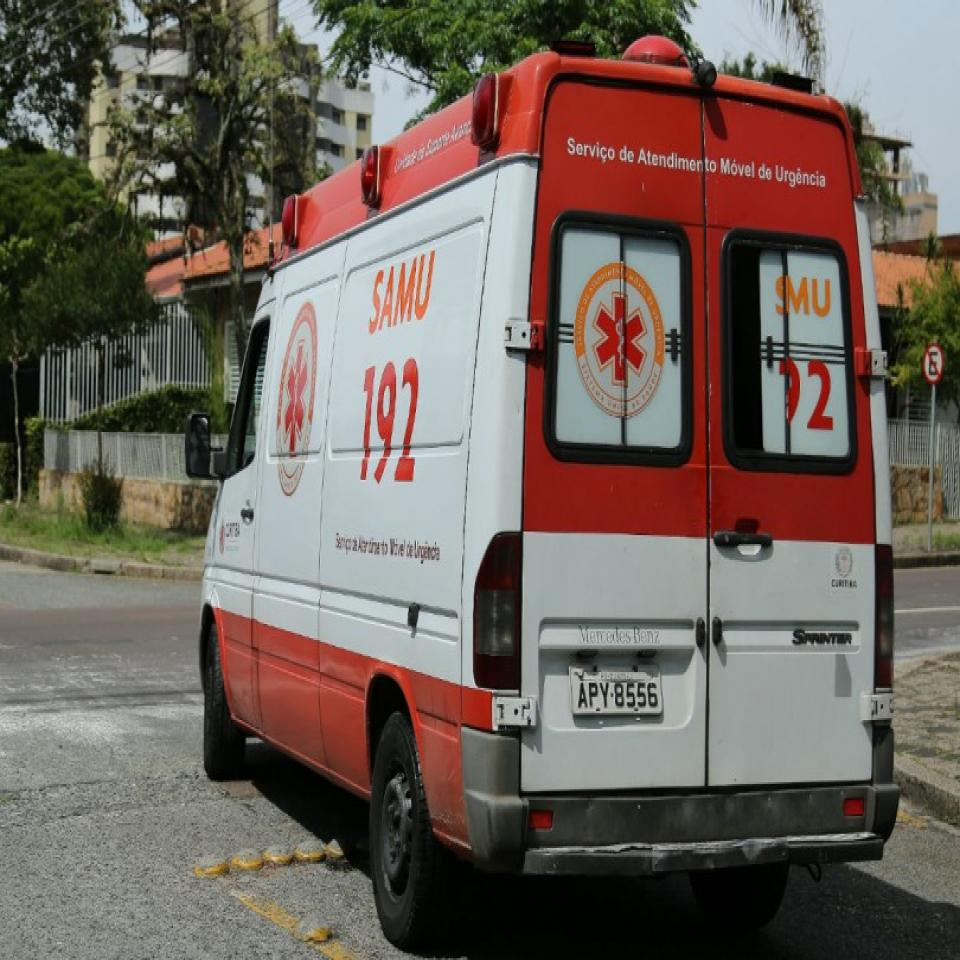bombeiro: (182, 26, 905, 950)
